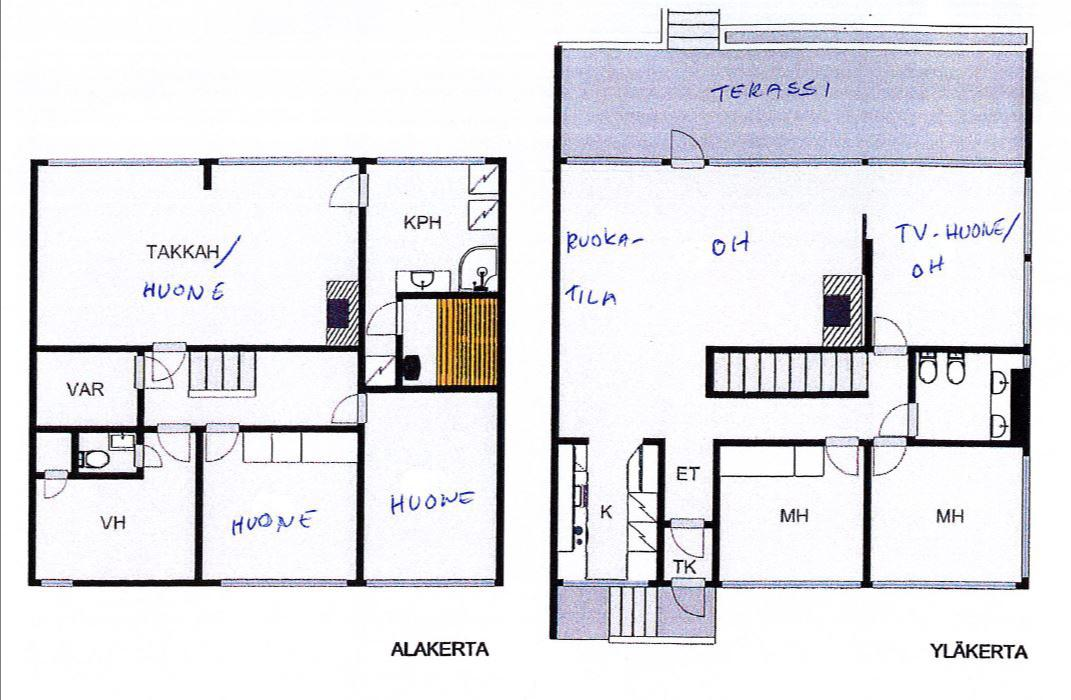bathroom: (913, 351, 992, 441), (75, 430, 135, 476)
door: (326, 172, 372, 214), (824, 432, 862, 479), (155, 420, 193, 465), (365, 298, 405, 340), (150, 340, 188, 384), (132, 354, 176, 392), (876, 401, 921, 438), (872, 314, 908, 360), (669, 517, 708, 559), (668, 128, 707, 170), (671, 576, 707, 620), (204, 421, 240, 464), (327, 392, 369, 426), (874, 438, 911, 476), (40, 468, 69, 502), (132, 443, 164, 470)
perimeter: (551, 156, 1031, 588), (29, 159, 503, 587)
stairs: (712, 351, 870, 396), (187, 352, 256, 400), (606, 586, 657, 638)
window: (702, 154, 868, 172), (864, 154, 1028, 172), (866, 578, 1026, 594), (360, 576, 502, 593), (212, 575, 354, 592), (559, 152, 670, 173), (212, 152, 359, 167), (369, 154, 494, 170), (1019, 453, 1033, 587), (39, 156, 204, 167), (1019, 253, 1036, 346), (716, 580, 868, 589), (558, 577, 656, 590), (1020, 171, 1034, 260), (35, 575, 76, 592), (1018, 351, 1034, 374)
